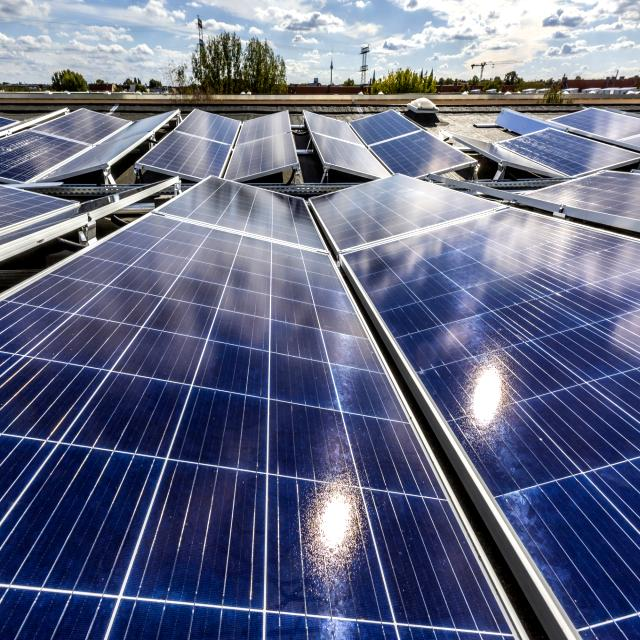crack: (351, 473, 513, 640), (112, 459, 267, 616), (260, 467, 400, 634), (497, 488, 640, 640), (165, 371, 272, 496), (336, 400, 448, 511), (256, 390, 357, 500), (79, 364, 188, 462), (454, 416, 586, 494), (102, 262, 184, 328)
